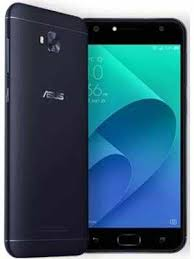asus: (83, 18, 184, 251), (8, 2, 90, 254)
